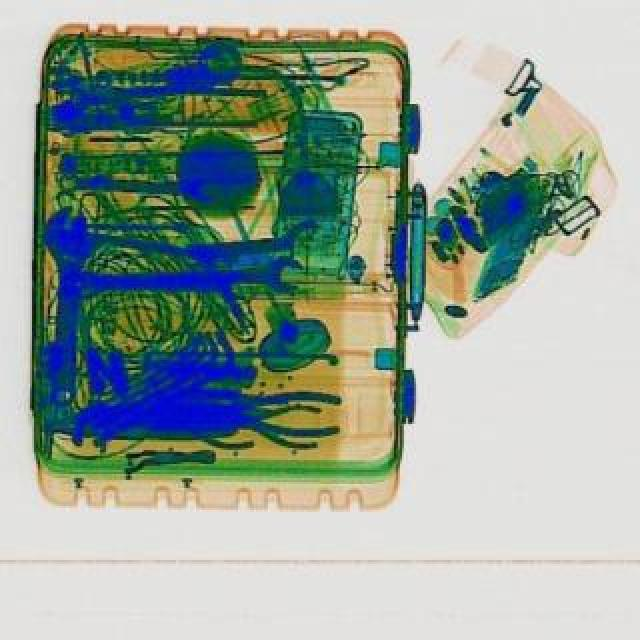scissors: (76, 258, 308, 310), (40, 206, 96, 410)
wrench: (204, 394, 344, 440)
